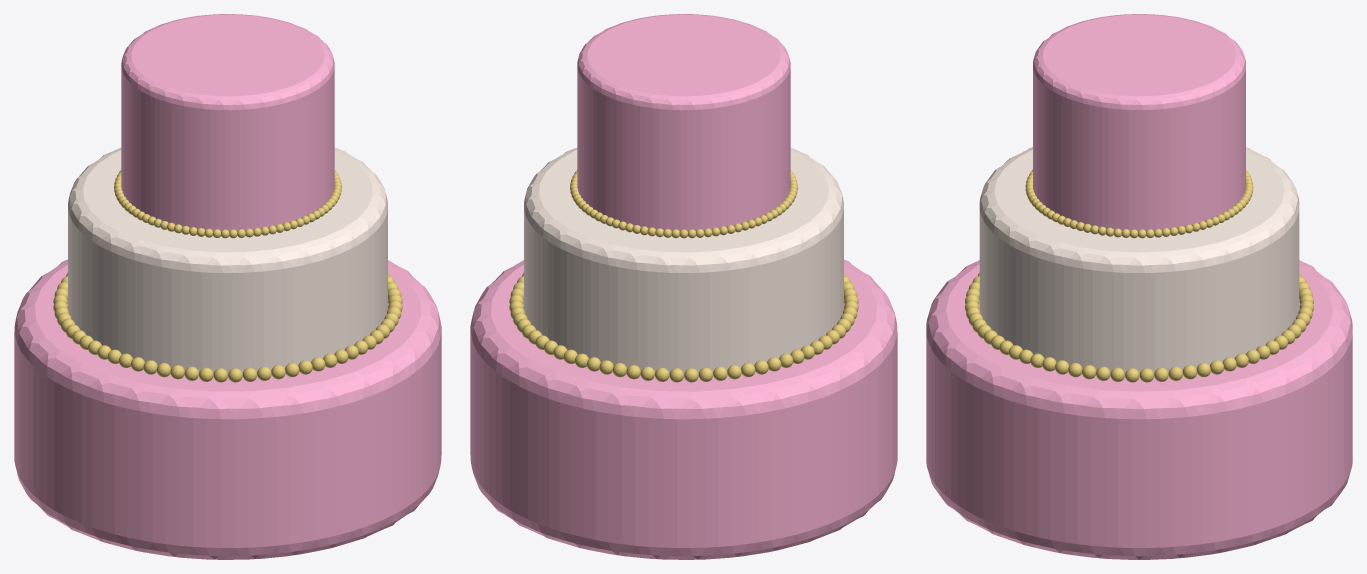
File: pastel.fbx
3 views of the same model, side by side, from view 1: azimuth 30°, elevation 25°; view 2: azimuth 150°, elevation 25°; view 3: azimuth 270°, elevation 25° (orthographic).
Parts seen in each view (by area): view 1: Cylinder, Cylinder.001, Cylinder.002, Sphere.001, Sphere; view 2: Cylinder, Cylinder.001, Cylinder.002, Sphere.001, Sphere; view 3: Cylinder, Cylinder.001, Cylinder.002, Sphere.001, Sphere.
Boxes of the visible parts, x1,y1,x2,y2 form: Cylinder: (14, 259, 441, 559); Cylinder.001: (68, 147, 387, 377); Cylinder.002: (121, 14, 334, 231); Sphere.001: (53, 273, 402, 382); Sphere: (114, 170, 341, 238); Cylinder: (470, 259, 897, 559); Cylinder.001: (524, 147, 843, 377); Cylinder.002: (577, 14, 790, 231); Sphere.001: (509, 273, 858, 382); Sphere: (570, 170, 797, 238); Cylinder: (926, 260, 1352, 559); Cylinder.001: (979, 147, 1299, 377); Cylinder.002: (1033, 14, 1245, 231); Sphere.001: (965, 273, 1313, 382); Sphere: (1025, 169, 1253, 238).
Bounding box in the file's own units: 397 × 433 × 397.
